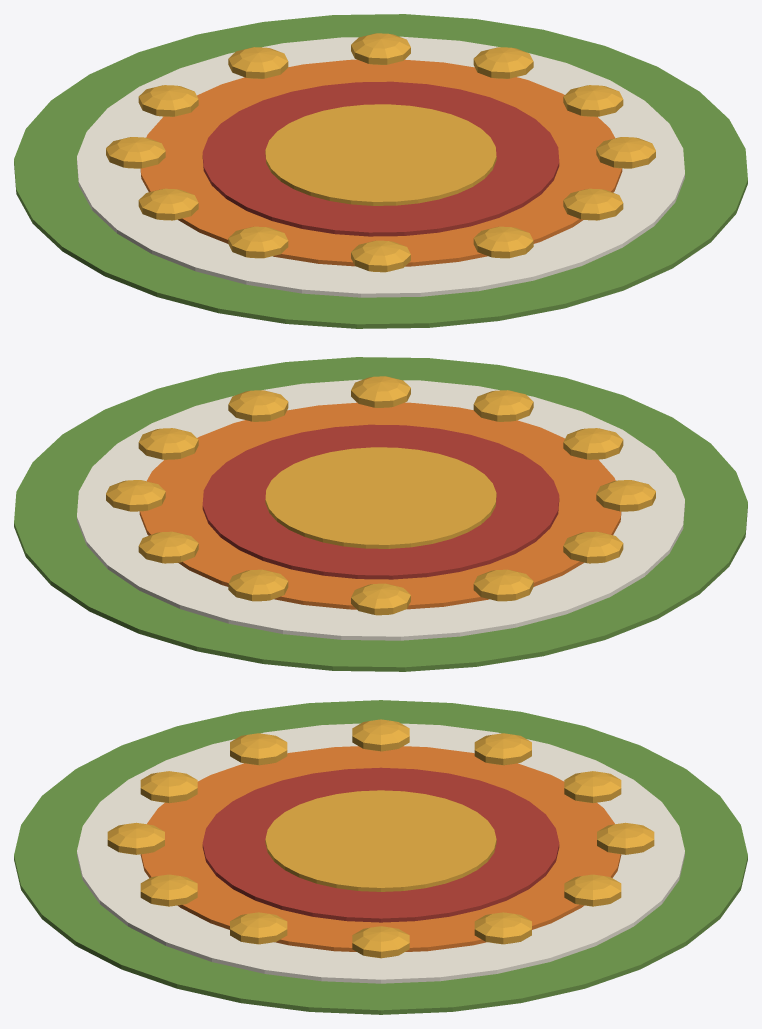
File: 085_onam_pookalam.glb
The picture shows the model from 3 angles, top to bottom: view 1: azimuth 30°, elevation 25°; view 2: azimuth 150°, elevation 25°; view 3: azimuth 270°, elevation 25°; orthographic projection.
Parts seen in each view (by area): view 1: Onam pookalam; view 2: Onam pookalam; view 3: Onam pookalam.
Boxes of the visible parts, left/top/right/bottom form: Onam pookalam: left=14, top=14, right=747, bottom=328; Onam pookalam: left=14, top=357, right=747, bottom=671; Onam pookalam: left=14, top=700, right=747, bottom=1014.
Size of the model in its own units: 2.16 by 0.101 by 2.16.
